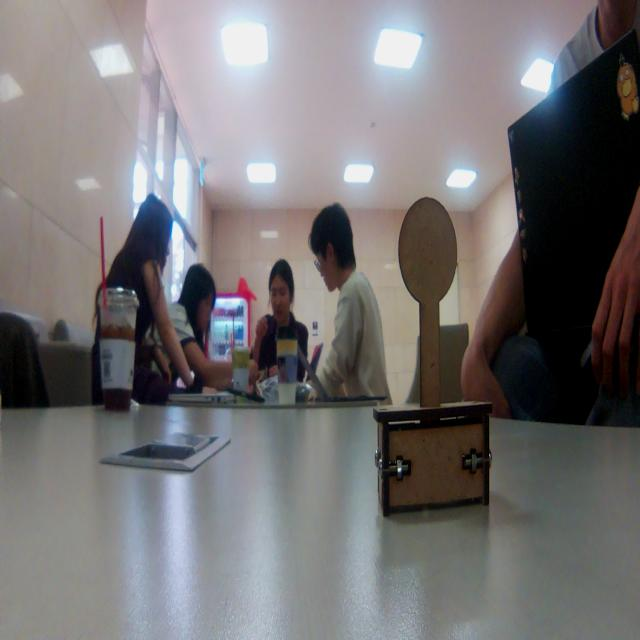target: (373, 195, 493, 517)
